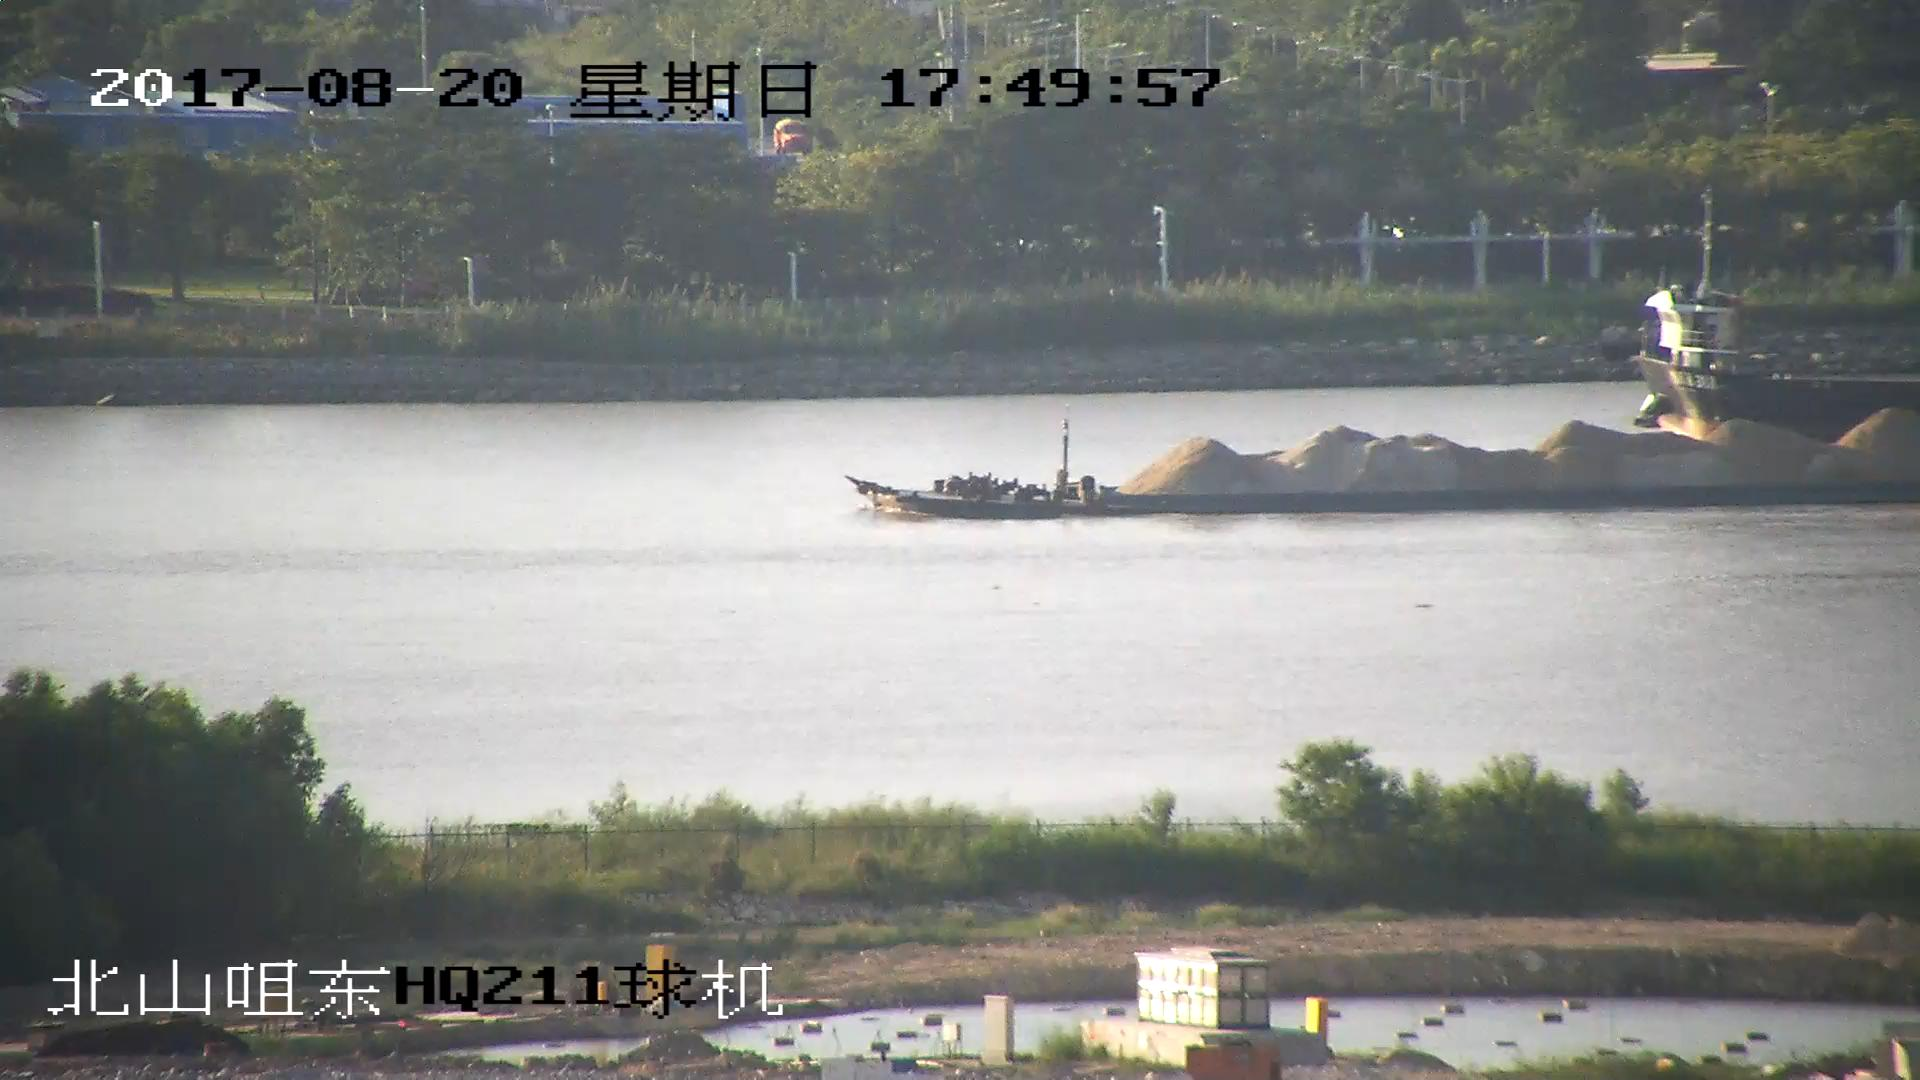general cargo ship: (1644, 191, 1920, 437)
ore carrier: (846, 422, 1920, 518)
